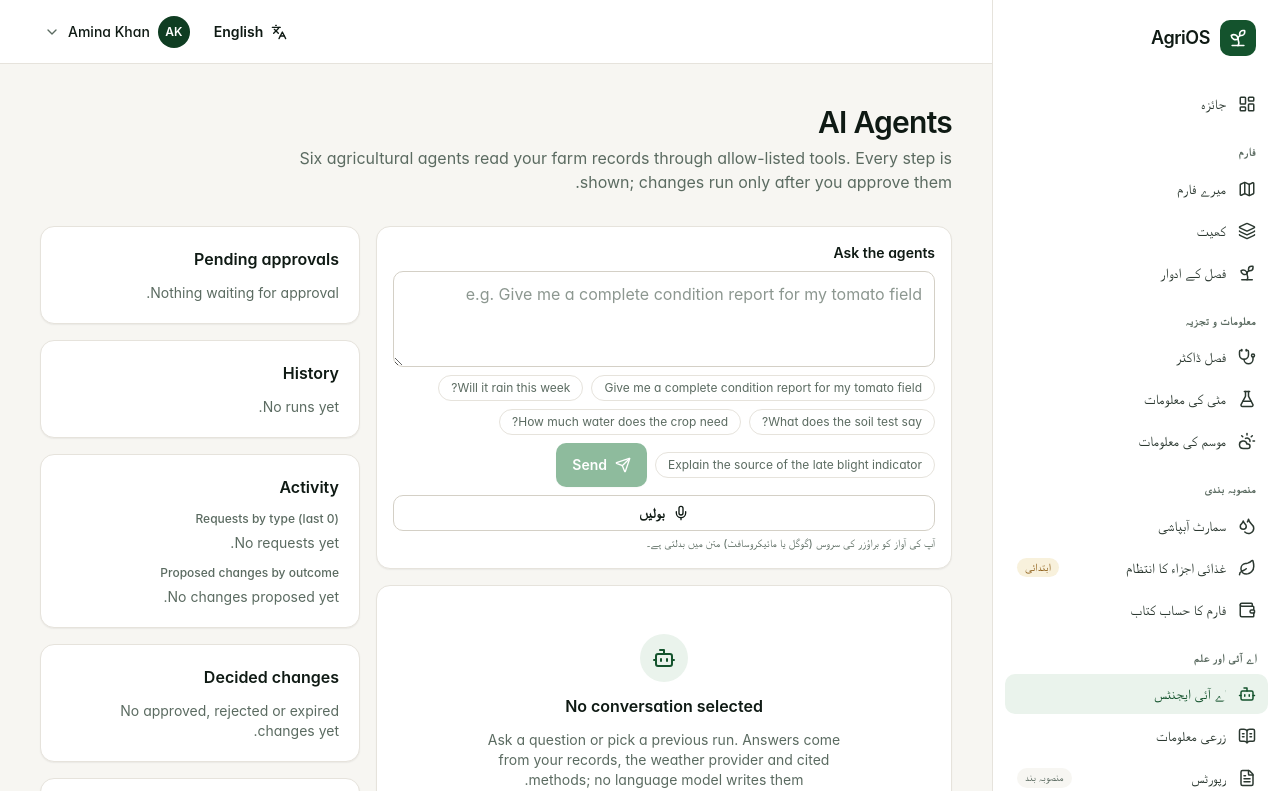
Test case: Voice input › explains a denied microphone in the user's language
Click the button "بولیں": (664, 513) [393,495,935,531]
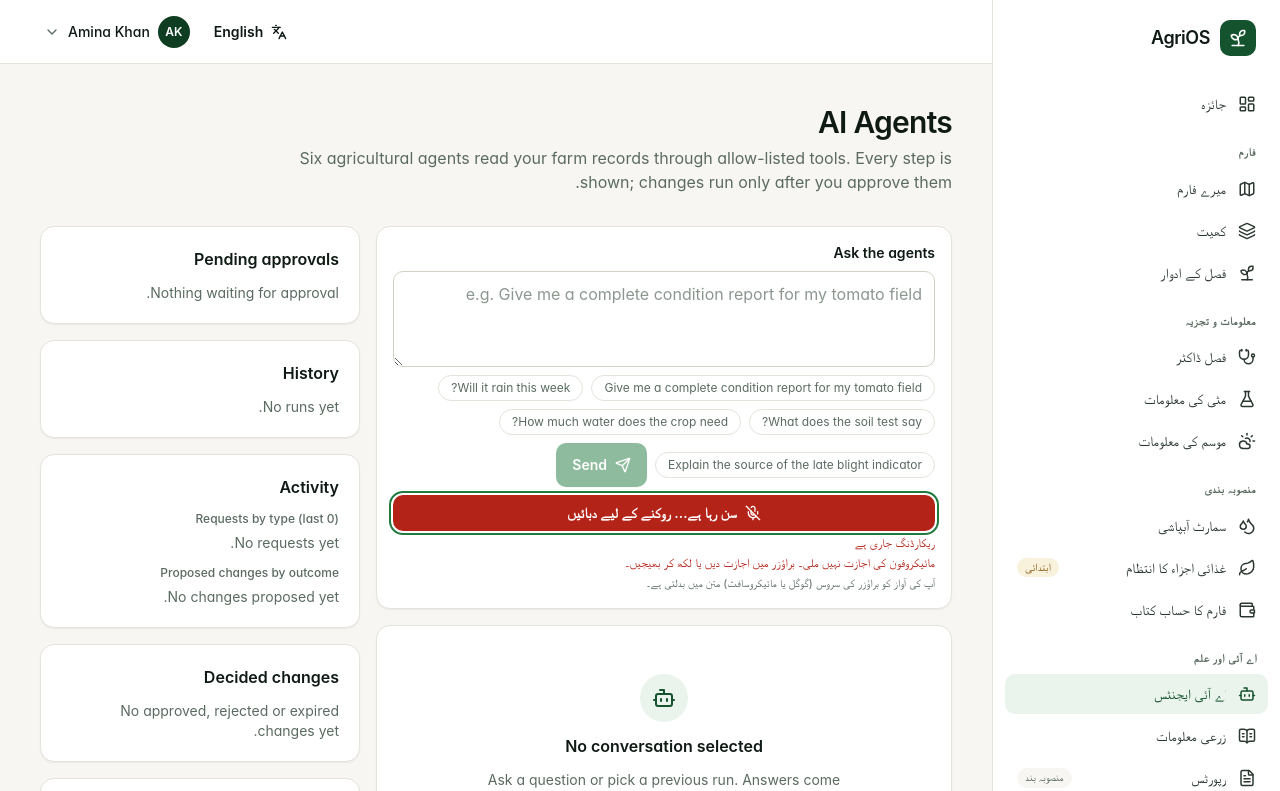
Check: the message "مائیکروفون کی اجازت نہیں ملی۔ براؤزر میں اجازت دیں یا لکھ کر بھیجیں۔" is shown, box [625,555,935,570]
